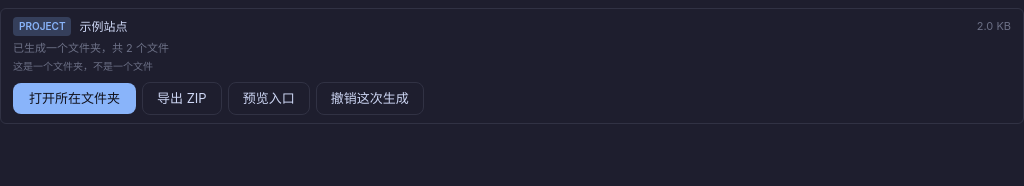
Scenario: PROJECT 产物卡片 › 预览 IPC 返回 null → 有可见失败面
The width and height of the screenshot is (1024, 186).
Click the button "预览入口" at (269, 98), box 228,82 -> 310,115
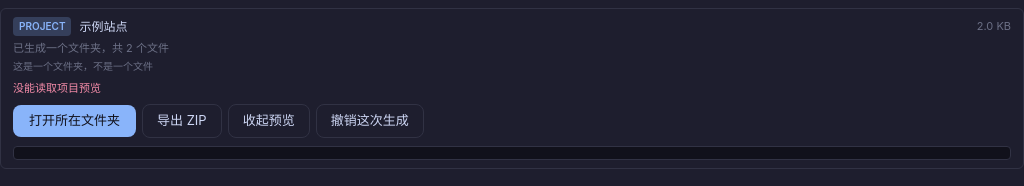
Check: the text "没能读取项目预览" is shown, box 13,80 -> 101,94
